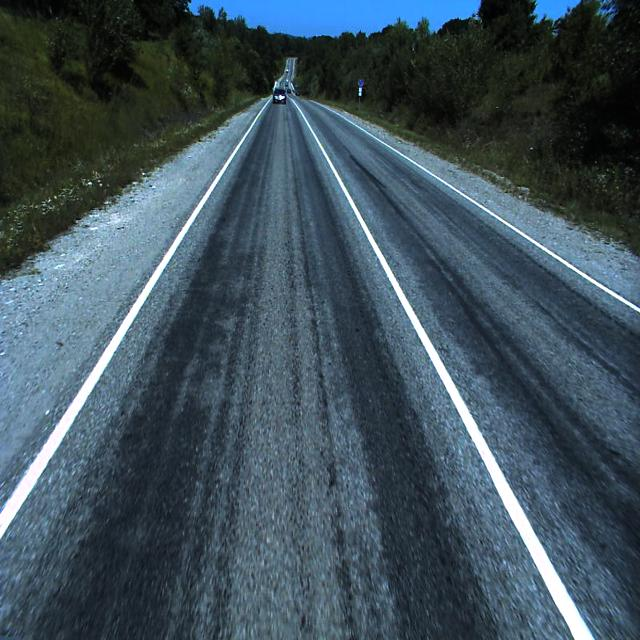road: (0, 93, 640, 639), (279, 59, 294, 89)
